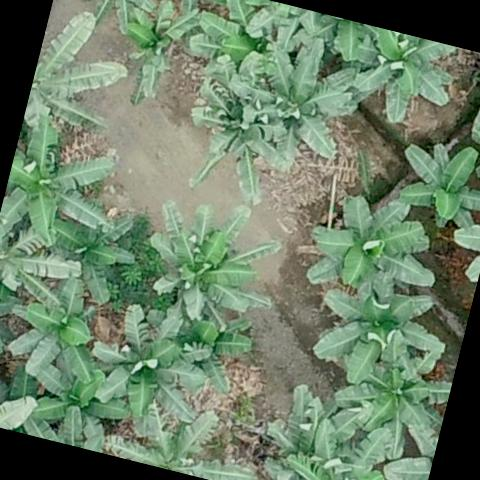Banana-plant: (140, 192, 282, 334), (302, 185, 452, 312), (306, 260, 452, 388), (325, 323, 460, 458), (85, 298, 218, 429), (21, 4, 137, 147), (0, 113, 124, 245), (245, 47, 361, 184), (178, 83, 298, 214), (112, 392, 270, 480), (8, 268, 118, 388), (344, 24, 458, 131), (180, 0, 299, 99), (36, 198, 142, 308), (387, 129, 480, 244), (27, 360, 136, 454), (276, 416, 424, 480), (0, 209, 87, 315), (164, 300, 260, 390), (114, 0, 195, 104), (64, 0, 161, 44)
